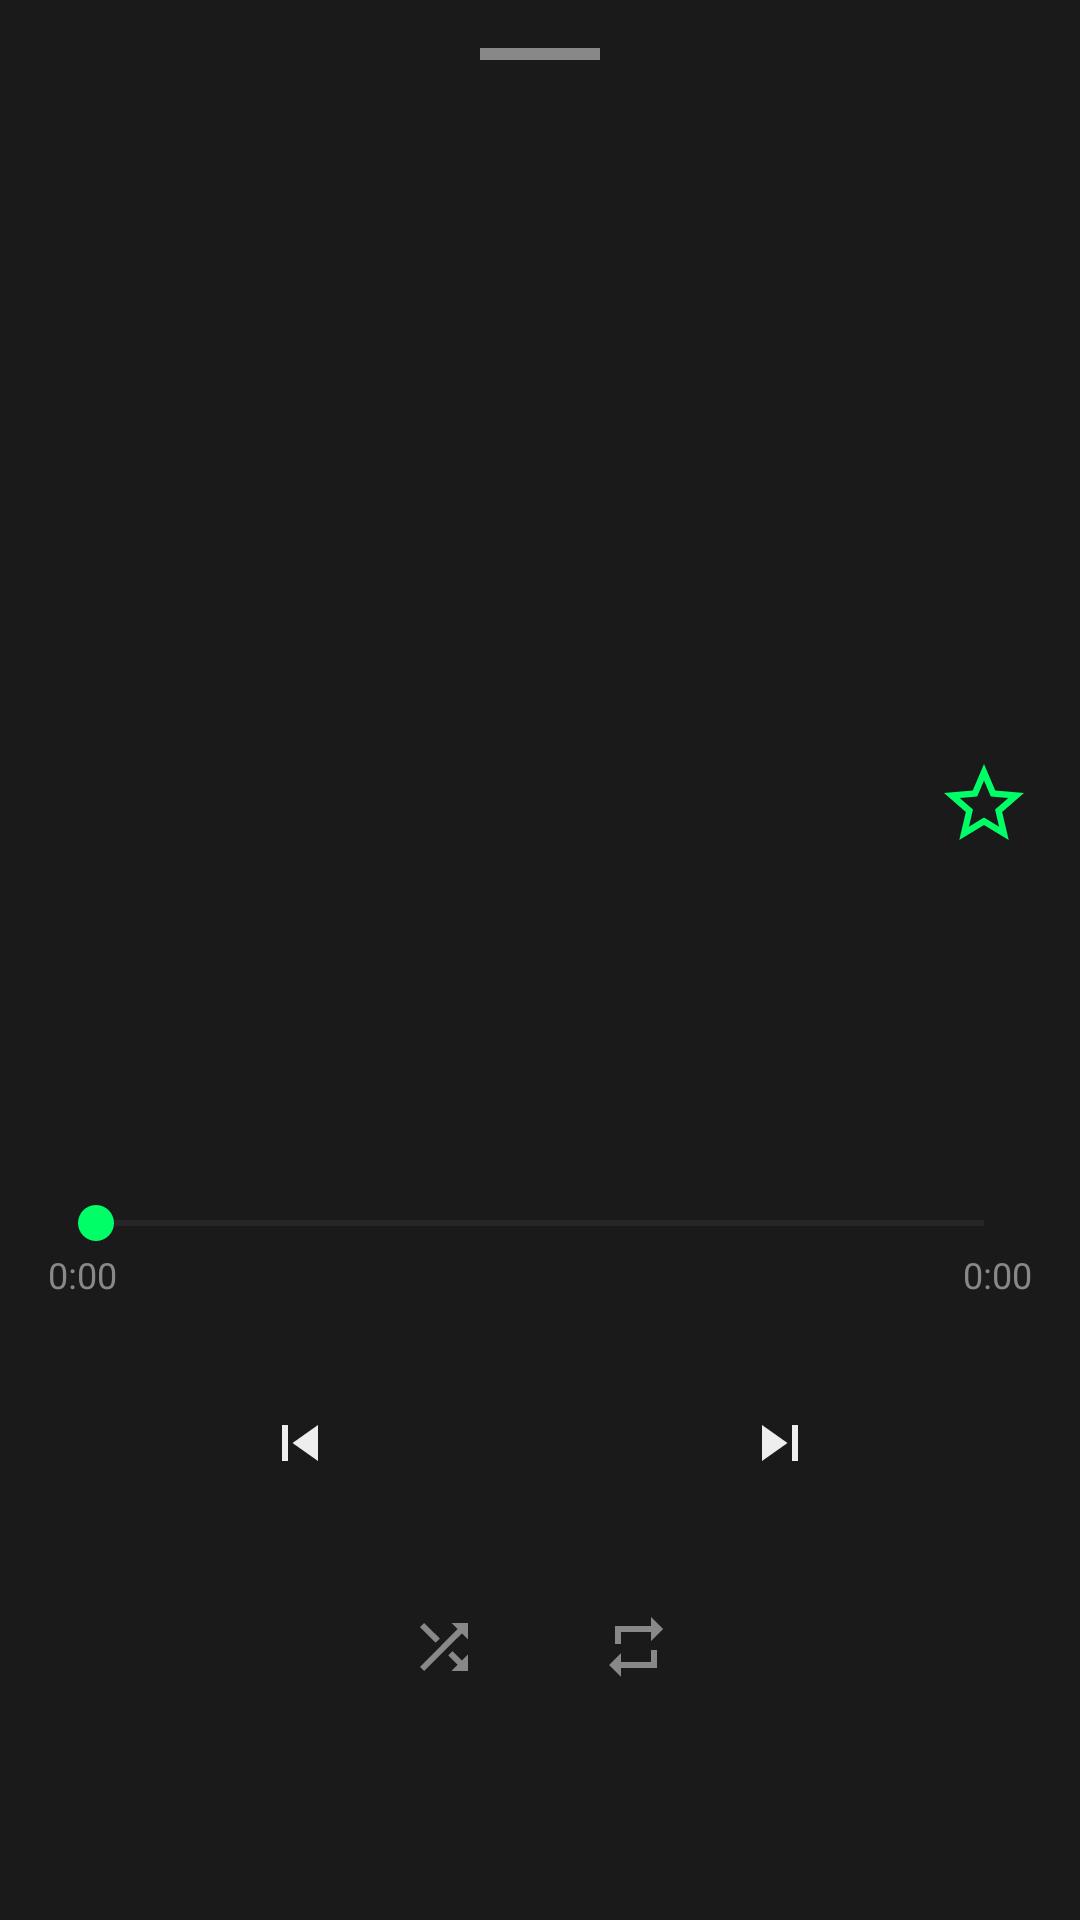

Screen size 1080w x 1920h. Icon name, then its center in pixels as (x,y):
Loop: (636,1647)
Next: (780,1443)
Previous: (300,1443)
Shuffle: (444,1647)
Toggle track favorite: (984,802)
